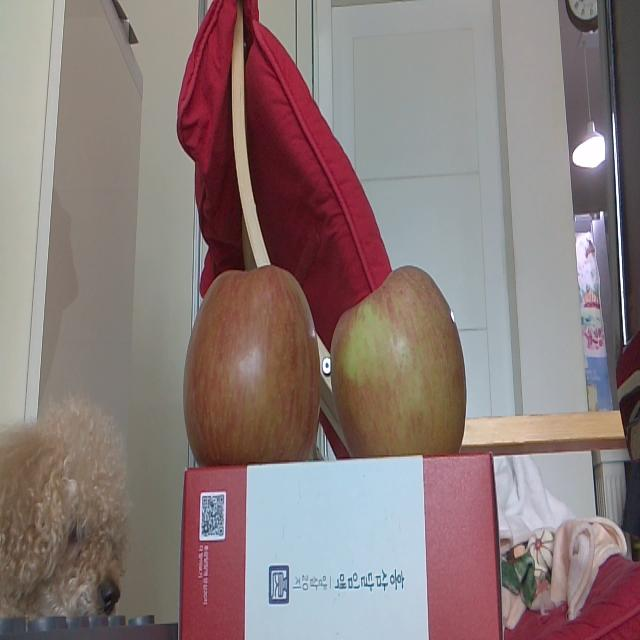apple: (183, 266, 325, 460), (330, 264, 464, 461)
